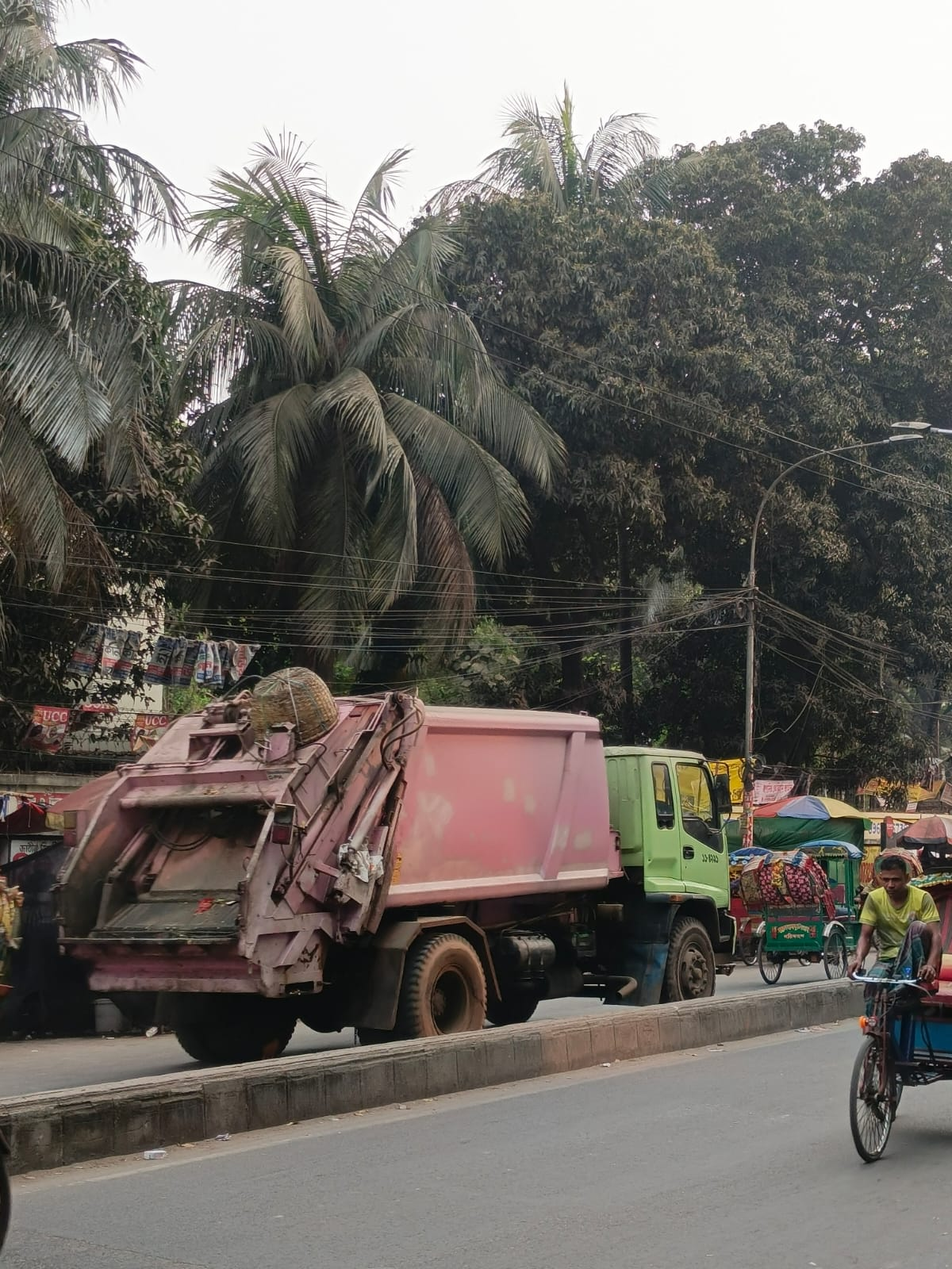Truck: (67, 668, 759, 1060)
